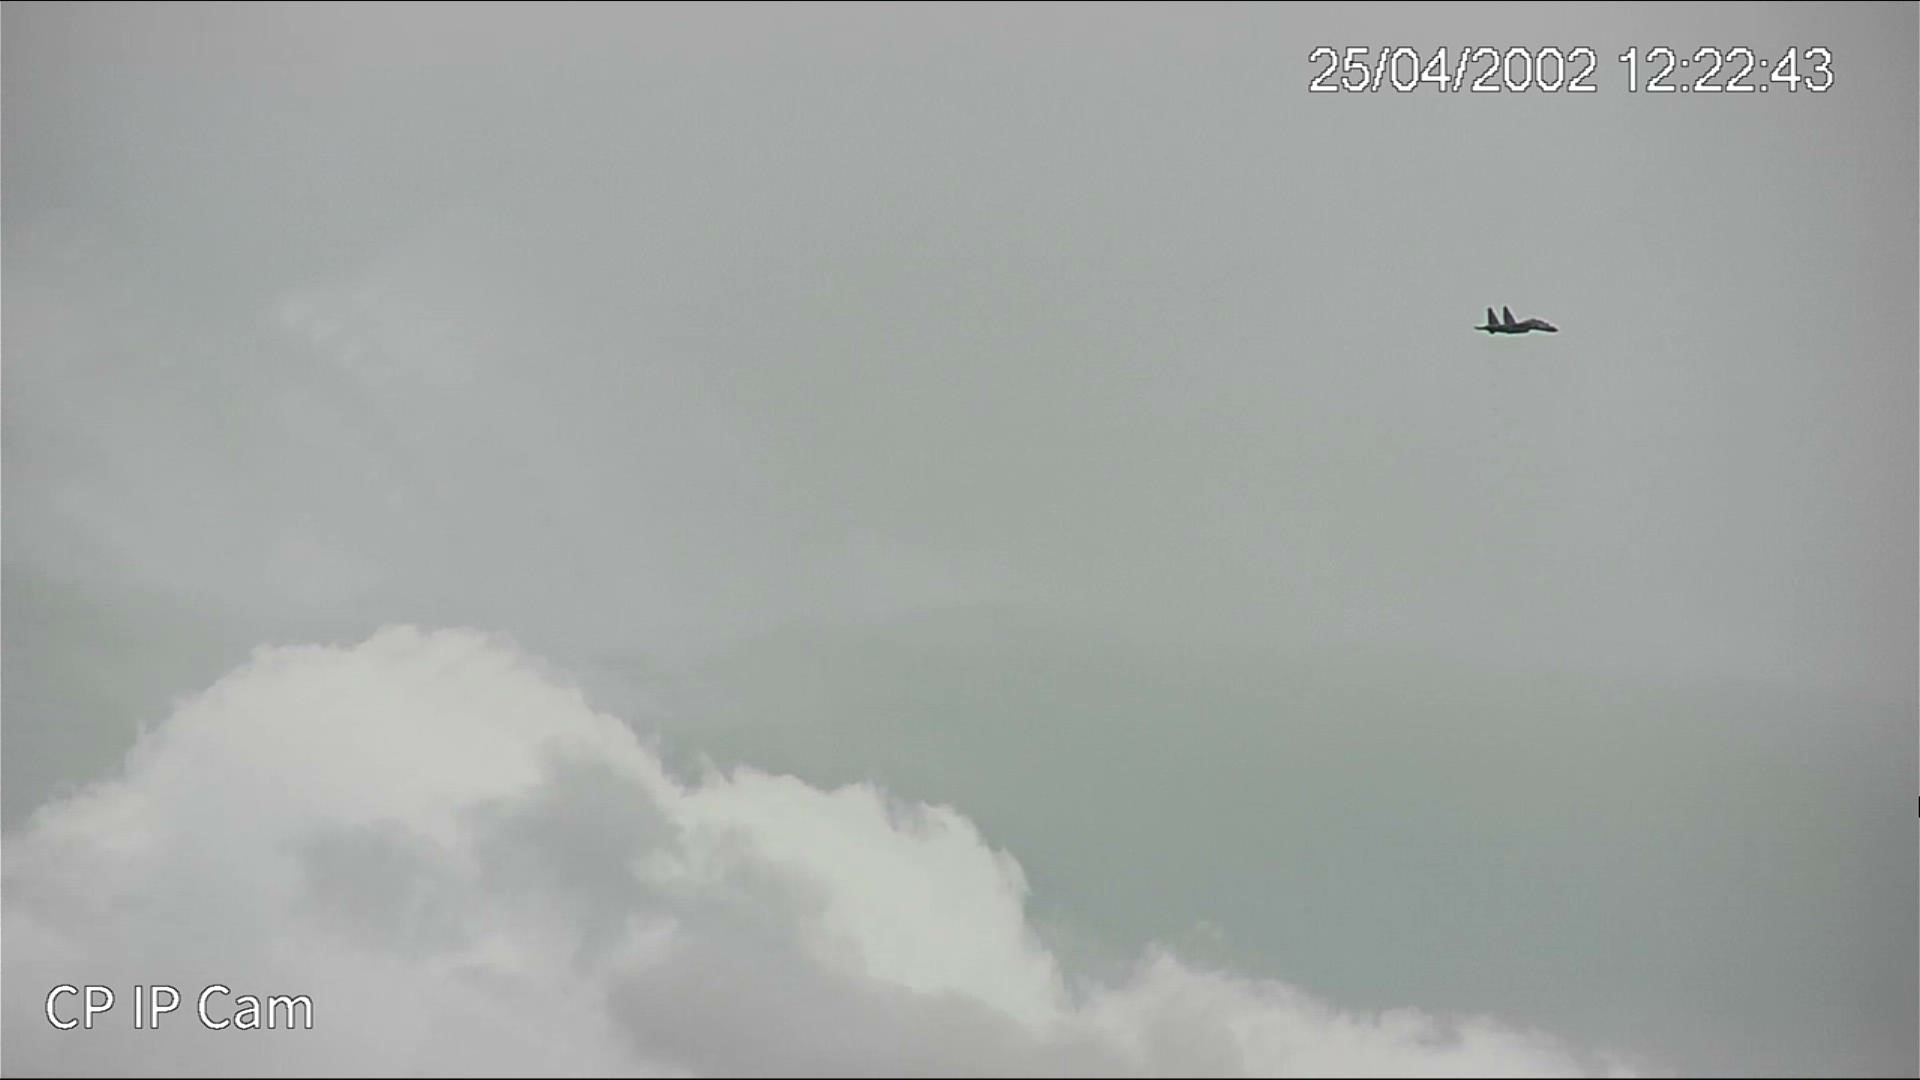SU_30: (1469, 310, 1561, 339)
